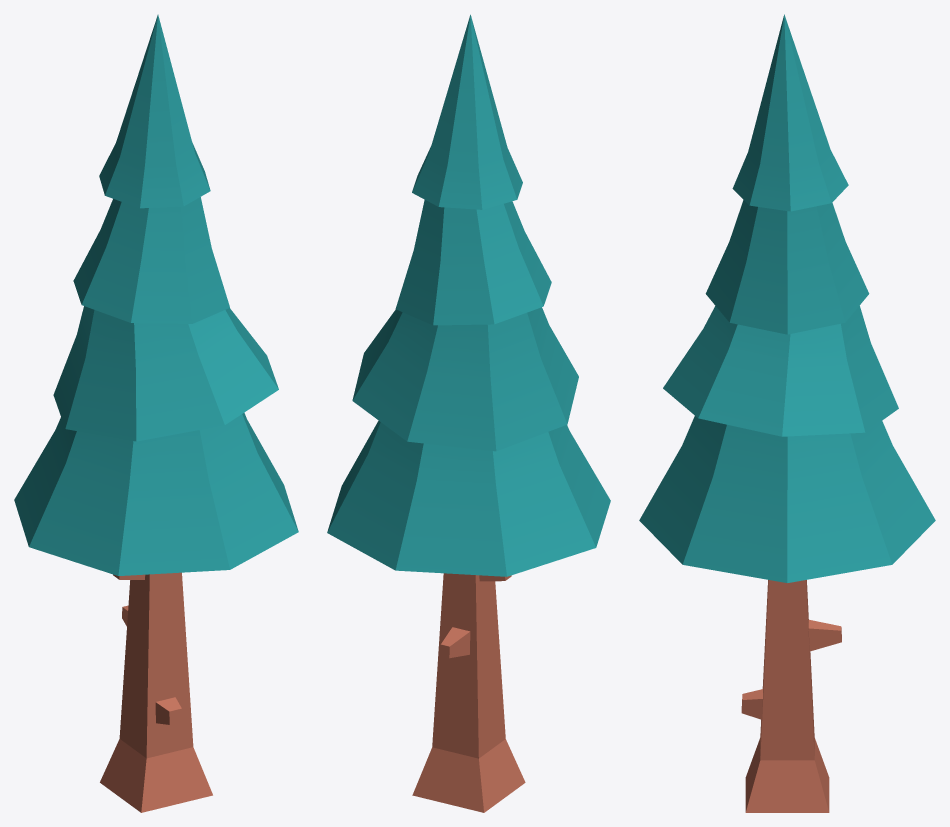
File: tree-pine-default-b.glb
The picture shows the model from 3 angles, left to right: view 1: azimuth 30°, elevation 25°; view 2: azimuth 150°, elevation 25°; view 3: azimuth 270°, elevation 25°; orthographic projection.
Parts seen in each view (by area): view 1: tree_pineDefaultB; view 2: tree_pineDefaultB; view 3: tree_pineDefaultB.
Part boxes in pixels (box(x1,y1,x2,y2)): tree_pineDefaultB: box(14, 14, 298, 812); tree_pineDefaultB: box(327, 14, 610, 812); tree_pineDefaultB: box(639, 14, 935, 812).
Bounding box in the file's own units: 0.532 × 1.55 × 0.532.
